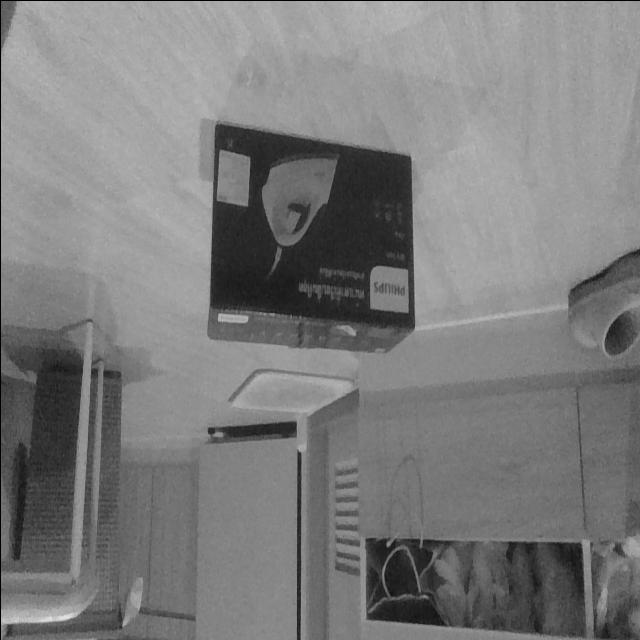IRON: (205, 119, 416, 358)
